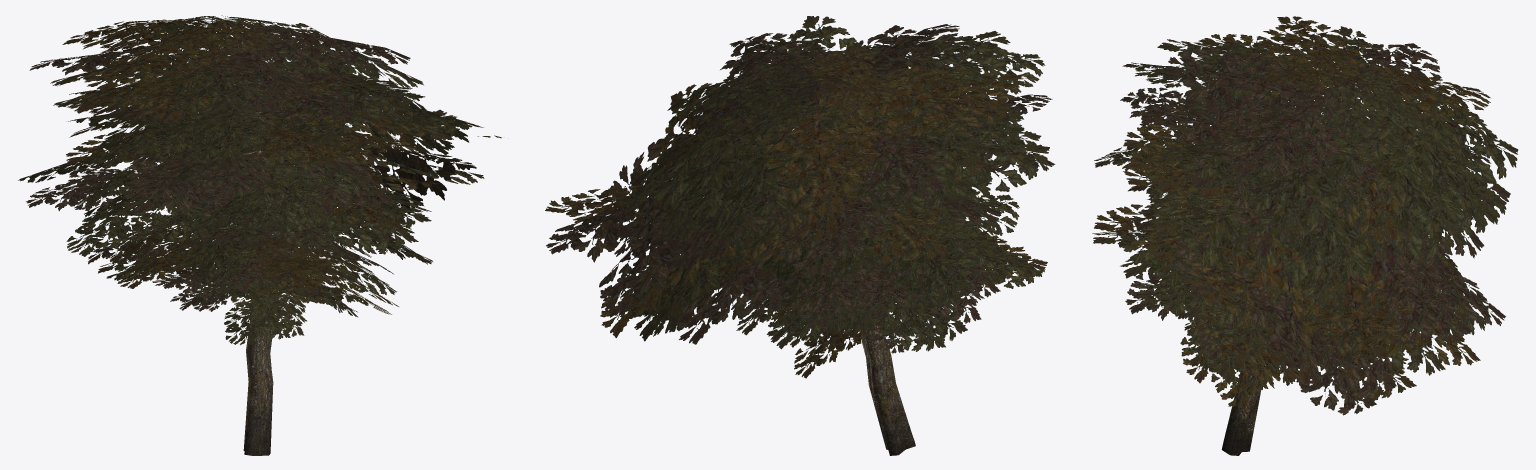
The model's file is arbol1.fbx.
3 views of the same model, side by side, from view 1: azimuth 30°, elevation 25°; view 2: azimuth 150°, elevation 25°; view 3: azimuth 270°, elevation 25° (orthographic). The views are drawn at different scales.
Visible parts, largest first — view 1: Oak007; view 2: Oak007; view 3: Oak007.
Boxes of the visible parts, box(x1,y1,x2,y2) form: Oak007: box(18, 15, 501, 455); Oak007: box(545, 16, 1055, 455); Oak007: box(1092, 16, 1518, 455).
Bounding box in the file's own units: 470 × 405 × 409.
